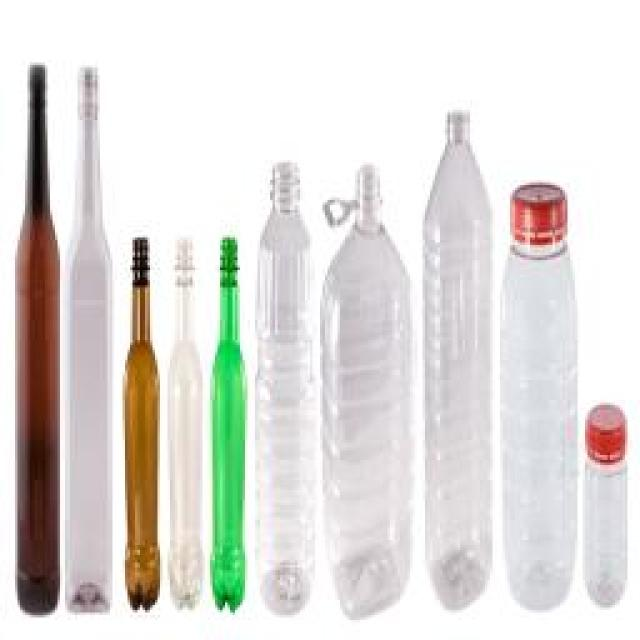bottle: (320, 163, 415, 620), (423, 110, 490, 610), (8, 58, 67, 620), (250, 164, 320, 619), (502, 183, 575, 615), (69, 65, 124, 608), (117, 240, 168, 610), (163, 238, 205, 612), (207, 235, 245, 612), (582, 404, 630, 609)
